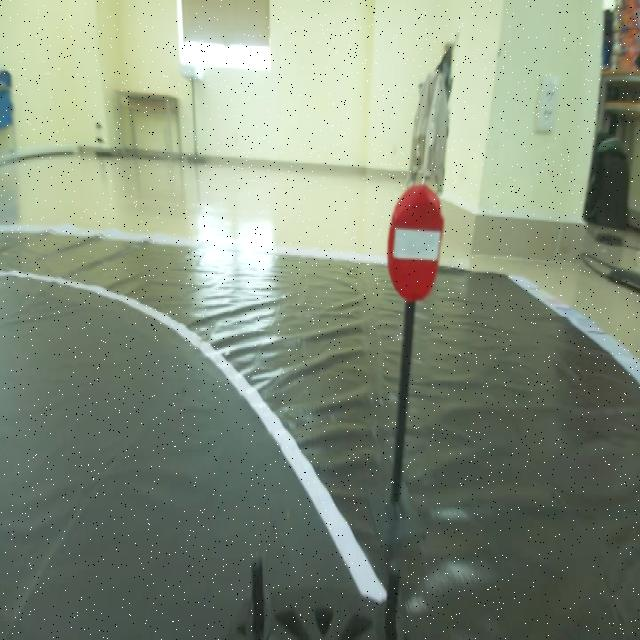no_entry: (387, 176, 451, 299)
